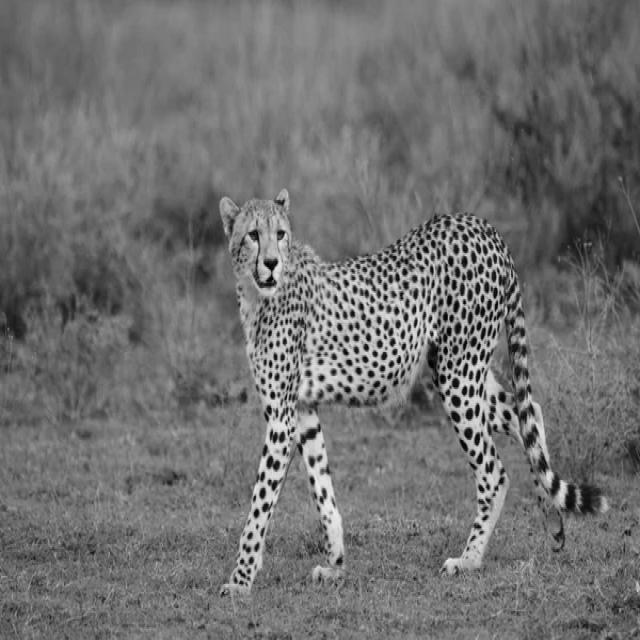Animal: (220, 189, 608, 597)
